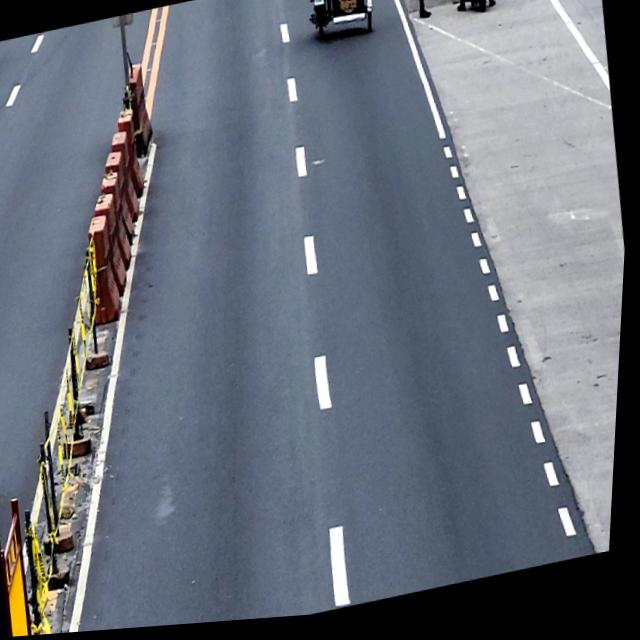License-Plate: (313, 0, 326, 12)
Motorcycle: (457, 0, 495, 24)
Tricycle: (301, 0, 378, 49)
